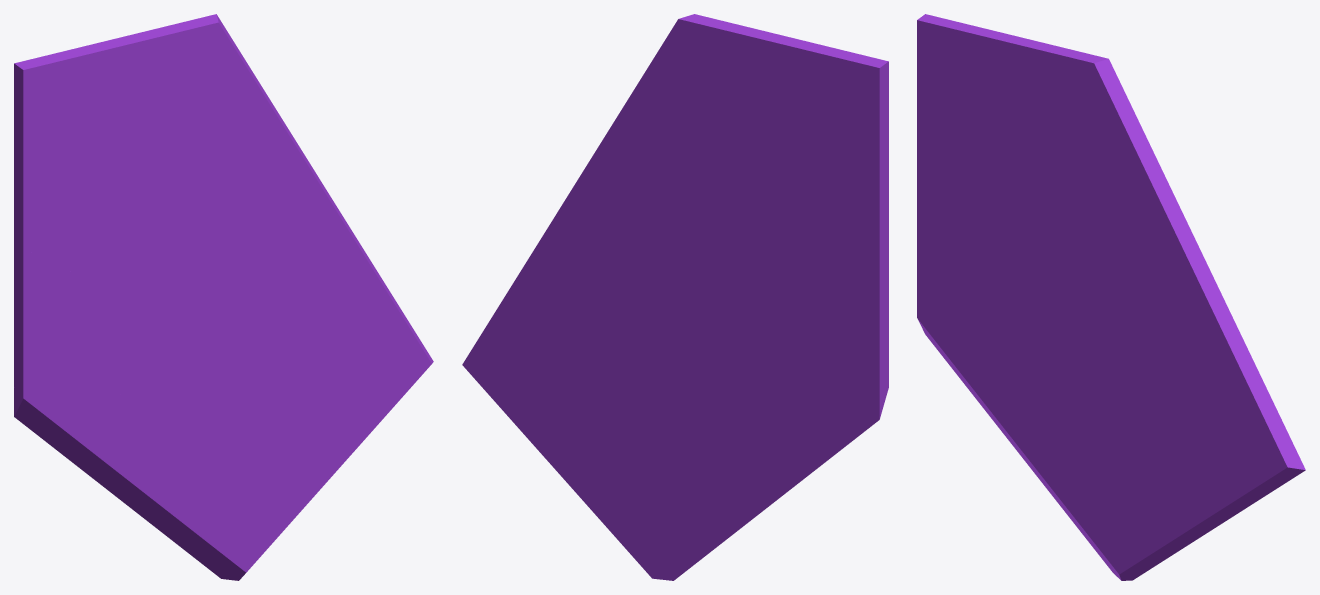
File: Window_6_8_chunks.fbx
3 renders of one model, left to right at view 1: azimuth 30°, elevation 25°; view 2: azimuth 150°, elevation 25°; view 3: azimuth 330°, elevation 25°, orthographic. The views are drawn at different scales.
Parts seen in each view (by area): view 1: Window_6_8_12, Window_6_8_9, Window_6_8_7, Window_6_8_4, Window_6_8_6, Window_6_8_2, Window_6_8_10, Window_6_8_1, Window_6_8_11, Window_6_8_8, Window_6_8_5, Window_6_8_3; view 2: Window_6_8_9, Window_6_8_12, Window_6_8_4, Window_6_8_2, Window_6_8_6, Window_6_8_10, Window_6_8_7, Window_6_8_1, Window_6_8_0, Window_6_8_5, Window_6_8_8, Window_6_8_11; view 3: Window_6_8_12, Window_6_8_9, Window_6_8_4, Window_6_8_2, Window_6_8_7, Window_6_8_10, Window_6_8_6, Window_6_8_1, Window_6_8_11, Window_6_8_8, Window_6_8_3, Window_6_8_5.
Part boxes in pixels (x1,y1,x2,y2): Window_6_8_12: [39, 14, 290, 195]; Window_6_8_9: [14, 57, 187, 304]; Window_6_8_7: [14, 231, 138, 432]; Window_6_8_4: [300, 230, 433, 431]; Window_6_8_6: [75, 367, 212, 551]; Window_6_8_2: [186, 414, 371, 580]; Window_6_8_10: [212, 121, 351, 305]; Window_6_8_1: [201, 274, 303, 483]; Window_6_8_11: [135, 192, 264, 345]; Window_6_8_8: [116, 295, 215, 372]; Window_6_8_5: [14, 388, 98, 464]; Window_6_8_3: [285, 349, 326, 414]; Window_6_8_9: [708, 57, 888, 300]; Window_6_8_12: [613, 14, 872, 188]; Window_6_8_4: [462, 234, 609, 435]; Window_6_8_2: [525, 404, 708, 580]; Window_6_8_6: [689, 369, 818, 553]; Window_6_8_10: [571, 123, 712, 293]; Window_6_8_7: [781, 235, 888, 407]; Window_6_8_1: [604, 281, 700, 478]; Window_6_8_0: [544, 190, 709, 344]; Window_6_8_5: [765, 353, 882, 466]; Window_6_8_8: [686, 273, 804, 373]; Window_6_8_11: [681, 226, 748, 321]; Window_6_8_12: [931, 20, 1168, 214]; Window_6_8_9: [917, 14, 1065, 282]; Window_6_8_4: [1168, 310, 1305, 506]; Window_6_8_2: [1073, 448, 1247, 580]; Window_6_8_7: [917, 181, 1021, 370]; Window_6_8_10: [1089, 183, 1217, 340]; Window_6_8_6: [972, 345, 1088, 531]; Window_6_8_1: [1078, 329, 1171, 473]; Window_6_8_11: [1019, 207, 1135, 354]; Window_6_8_8: [1001, 265, 1091, 373]; Window_6_8_3: [1155, 396, 1192, 466]; Window_6_8_5: [922, 329, 984, 403].
Bounding box in the file's own units: 715 × 927 × 27.2.
